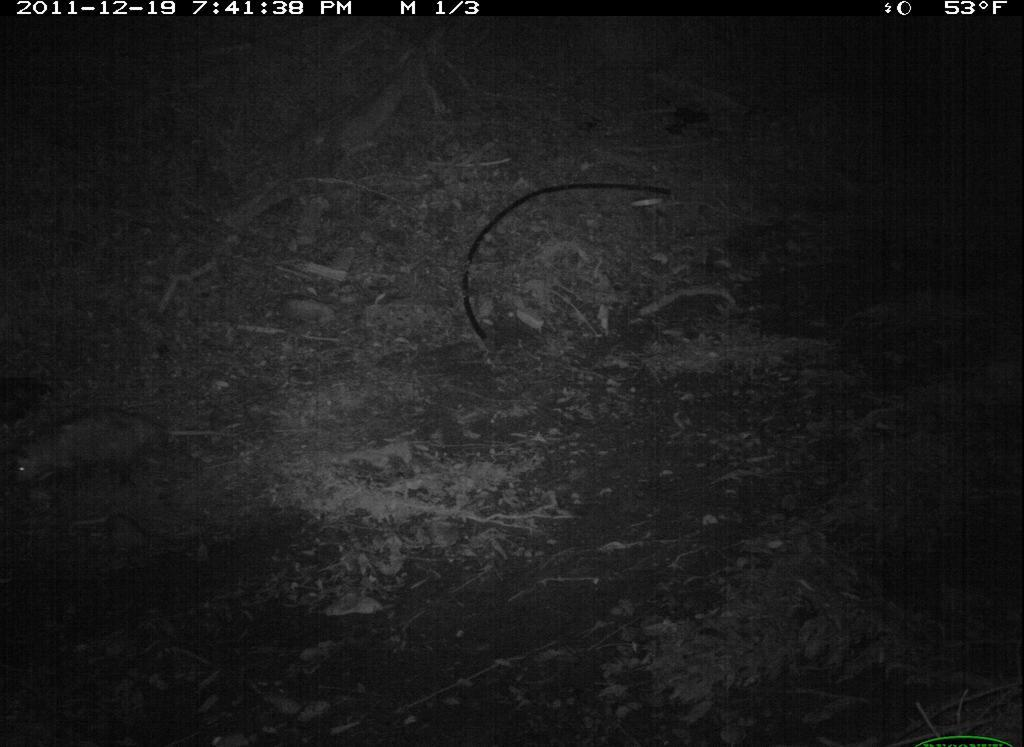opossum: (2, 393, 245, 515)
